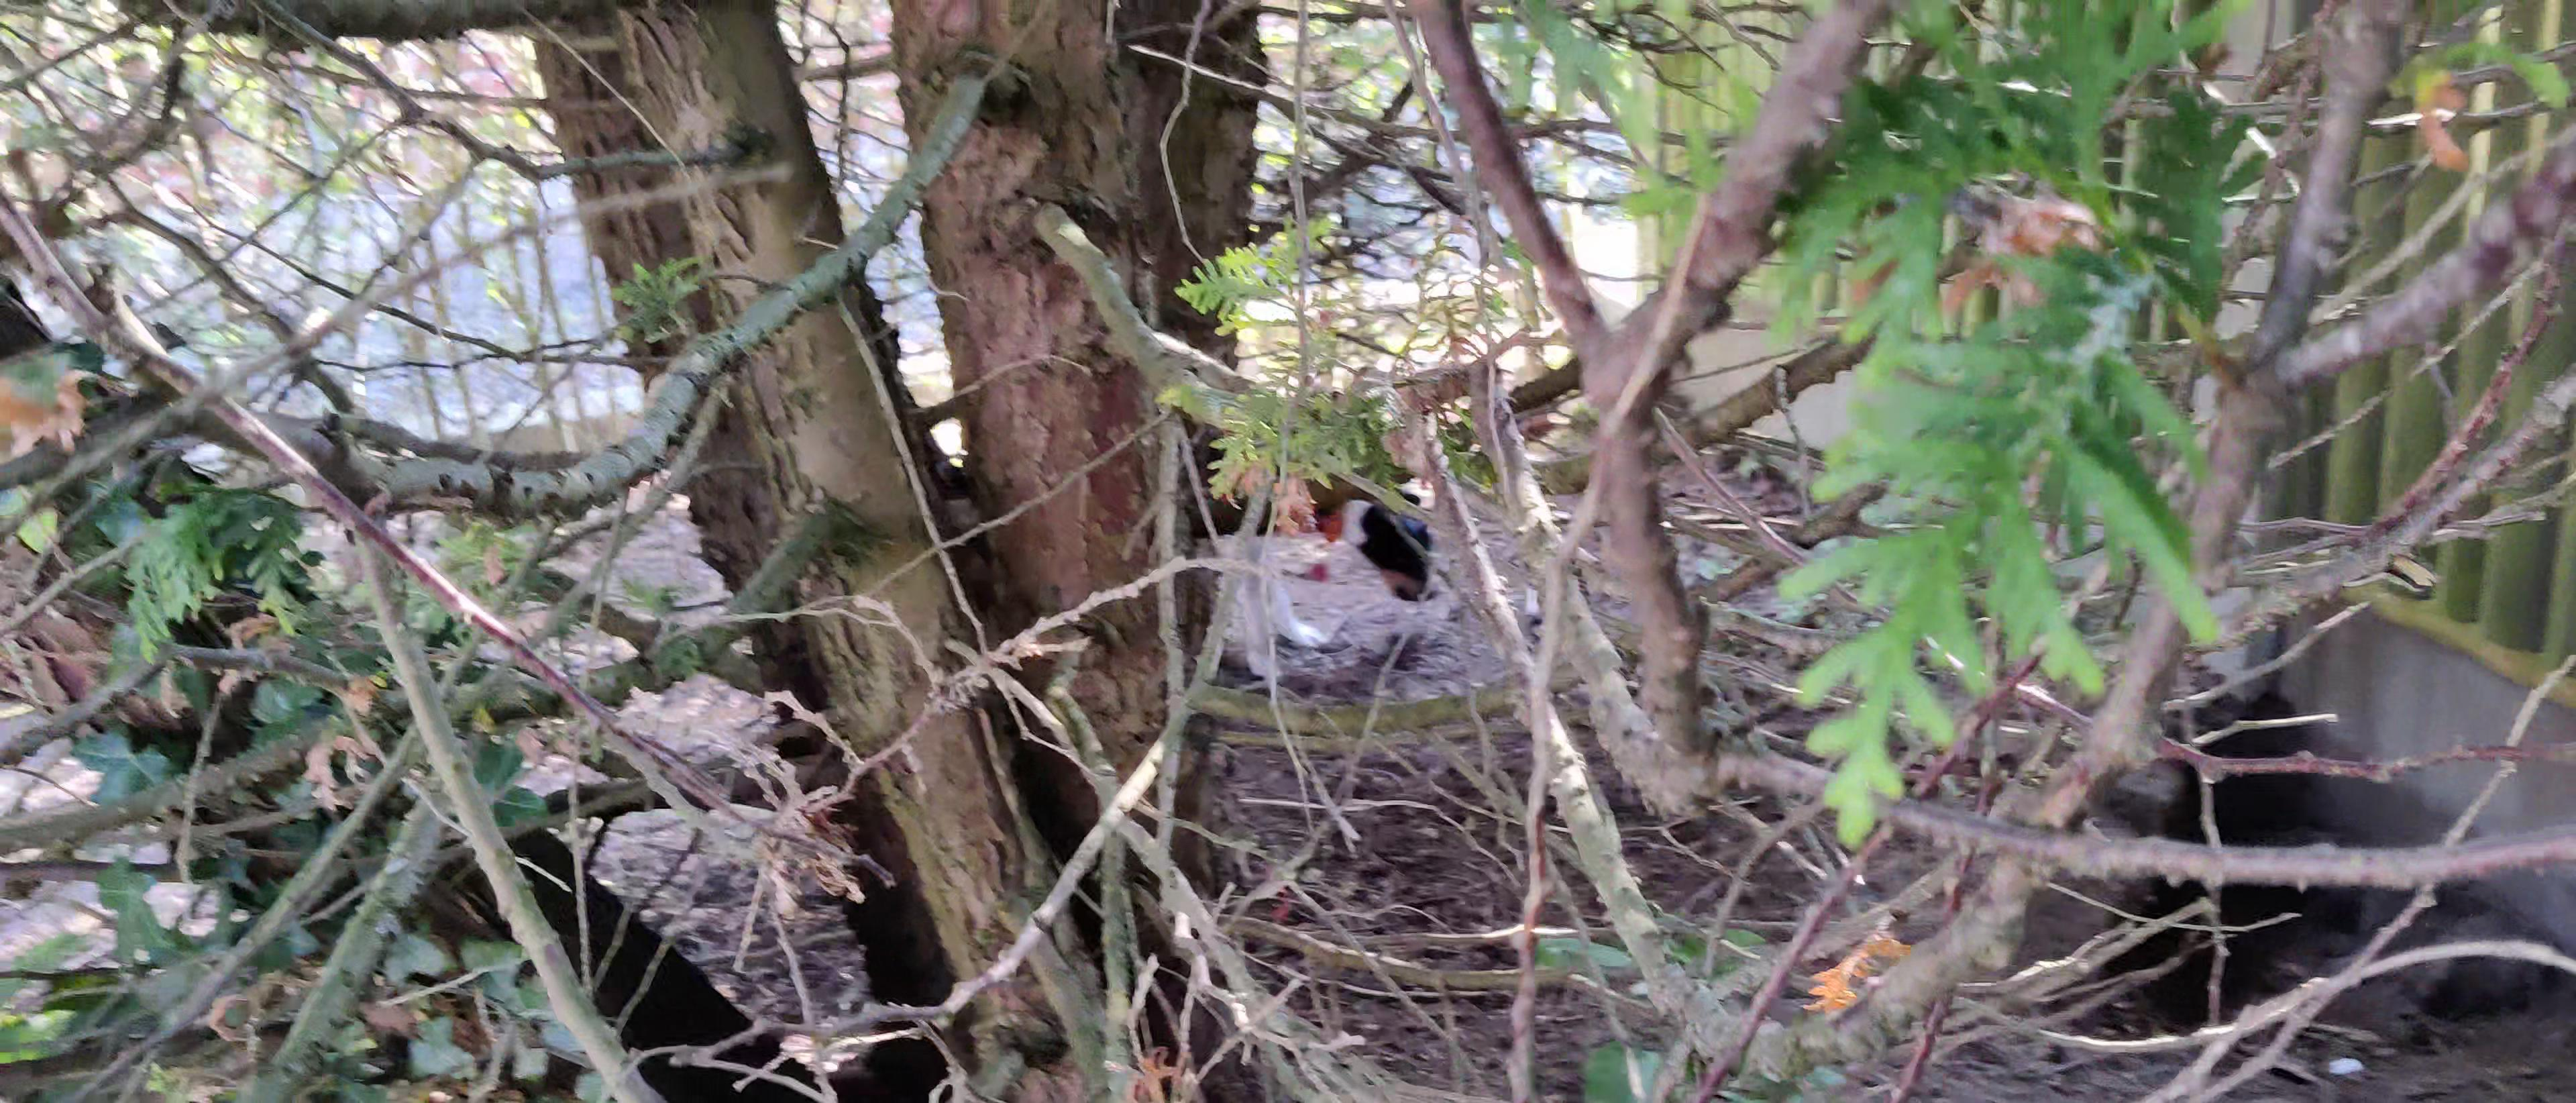Dog: (1160, 436, 1451, 697)
